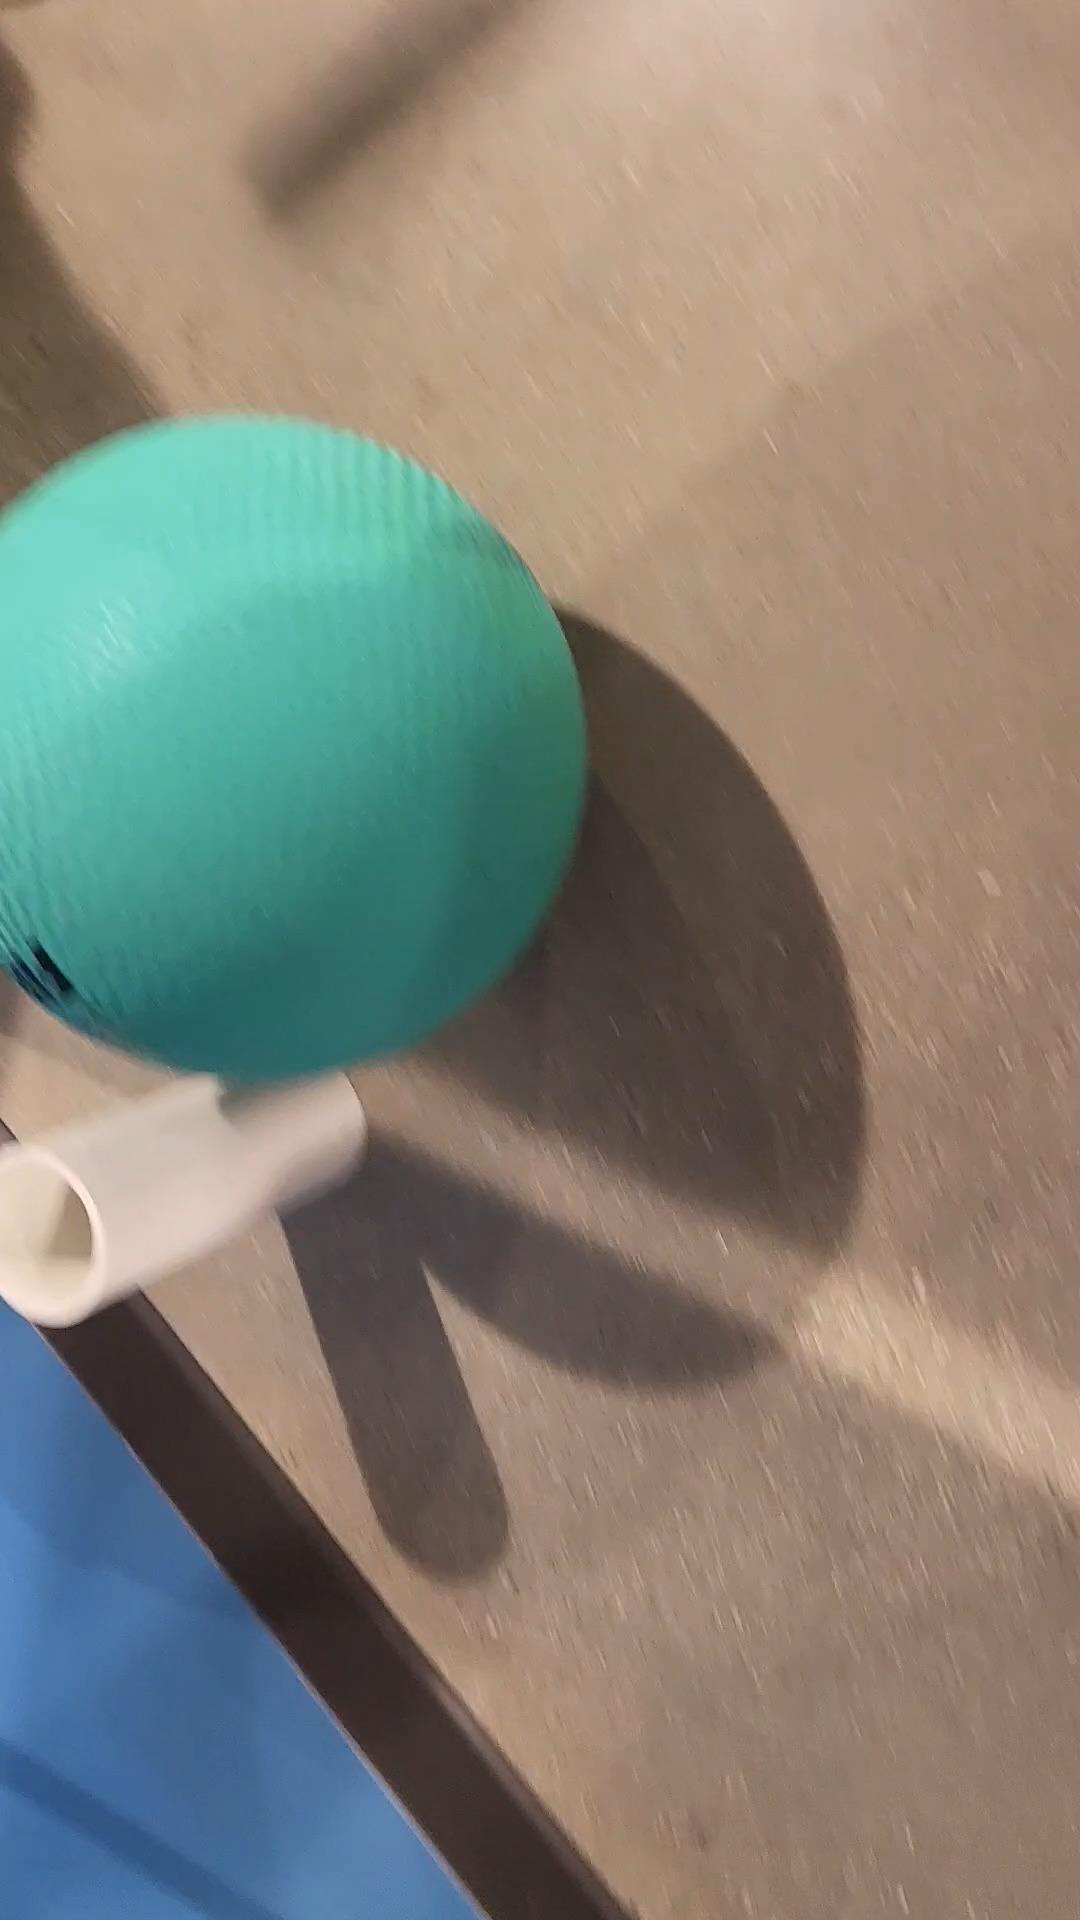algae: (0, 407, 583, 1080)
coral: (0, 1044, 380, 1331)
